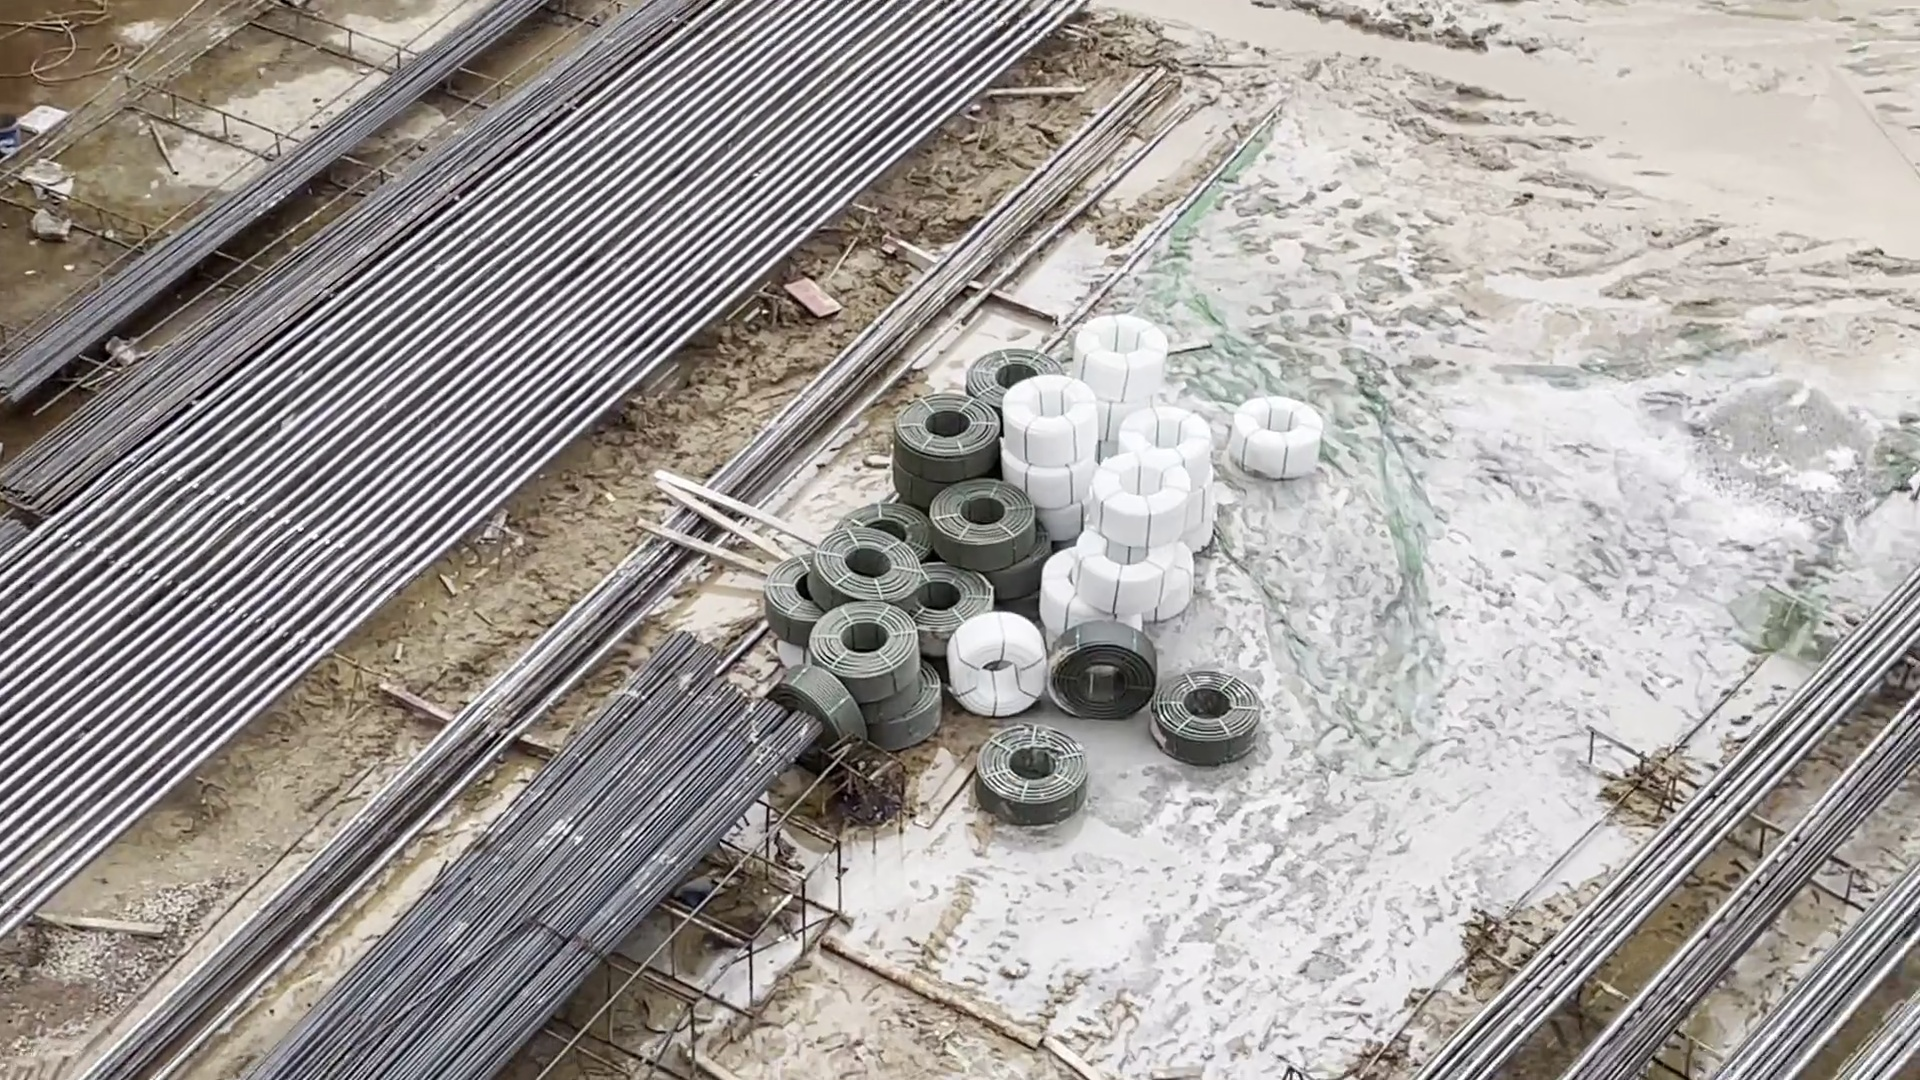rebar: (7, 1, 680, 469), (237, 630, 824, 1080)
